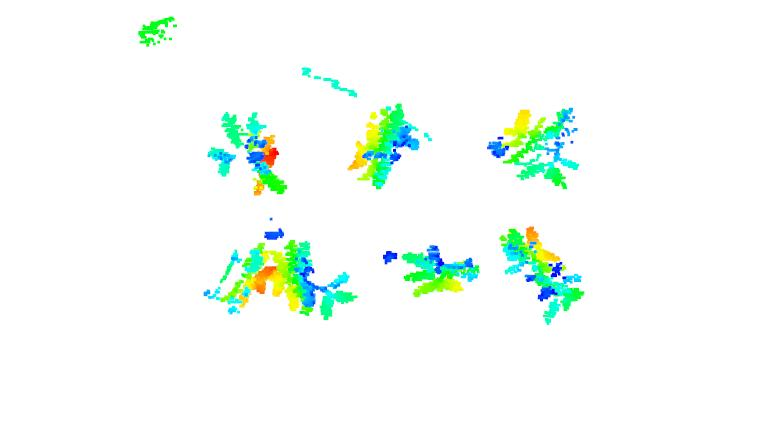chickpea: (499, 225, 587, 320), (494, 105, 583, 189), (209, 110, 292, 198), (272, 240, 358, 322), (344, 101, 419, 189), (212, 243, 273, 315), (399, 247, 482, 299)
